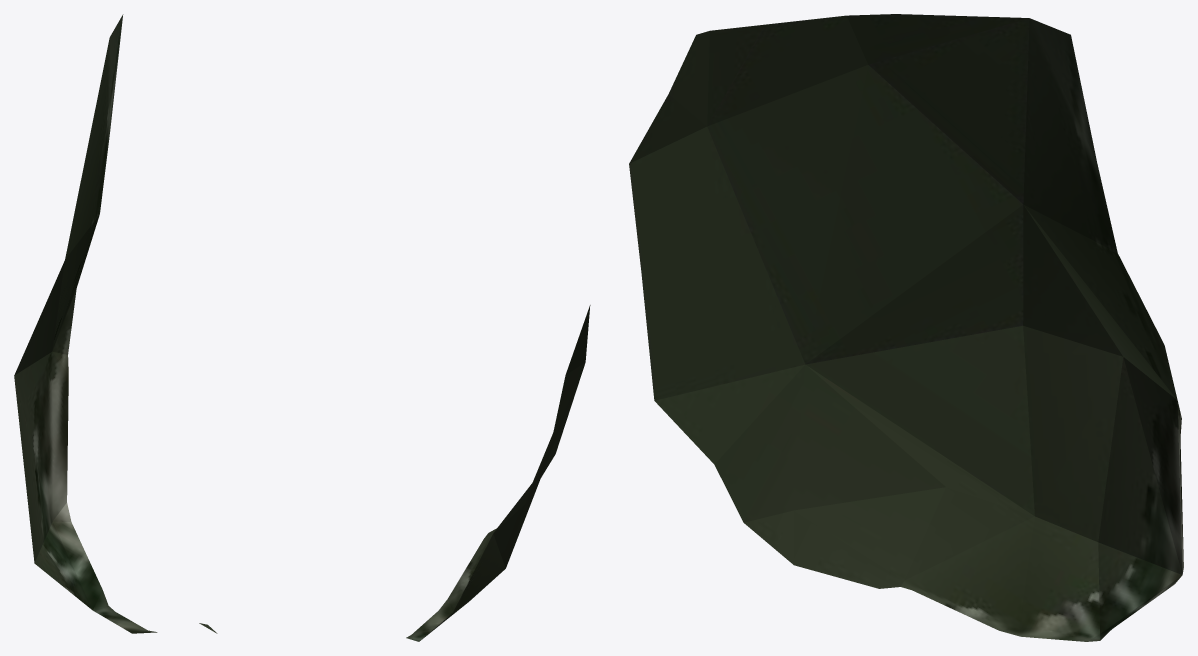
3 views of the same model, side by side, from view 1: azimuth 30°, elevation 25°; view 2: azimuth 150°, elevation 25°; view 3: azimuth 270°, elevation 25° (orthographic). The views are drawn at different scales.
Size of the model in its own units: 0.5183 by 2.69 by 2.23.
Materials: 2 (2 with a texture image).
